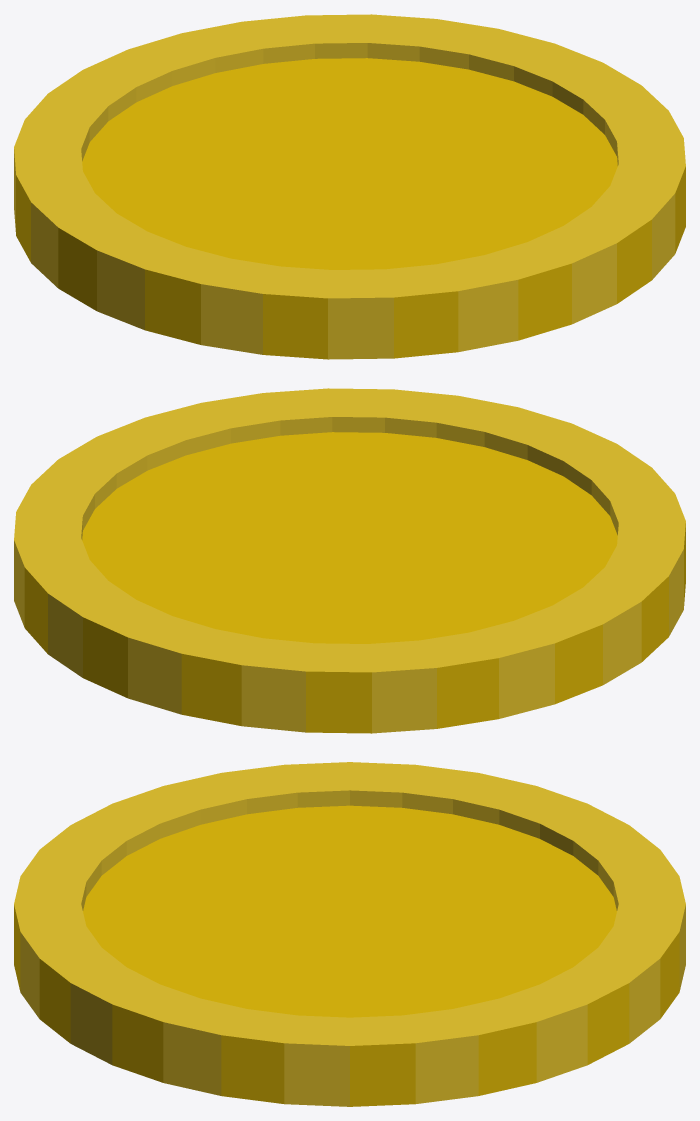
Rendered from coin.glb.
The picture shows the model from 3 angles, top to bottom: view 1: azimuth 30°, elevation 25°; view 2: azimuth 150°, elevation 25°; view 3: azimuth 270°, elevation 25°; orthographic projection.
Parts seen in each view (by area): view 1: Cylinder.001; view 2: Cylinder.001; view 3: Cylinder.001.
Part boxes in pixels (bbox=[...]): Cylinder.001: bbox=[14, 14, 685, 359]; Cylinder.001: bbox=[14, 388, 685, 733]; Cylinder.001: bbox=[14, 762, 685, 1106].
Bounding box in the file's own units: 2 × 0.2 × 2.
1 material, 1 textured.
